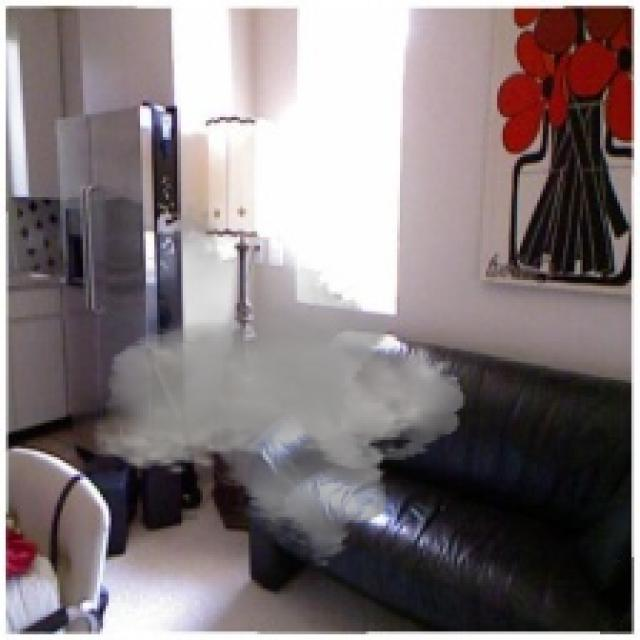smoke: (91, 203, 466, 568)
